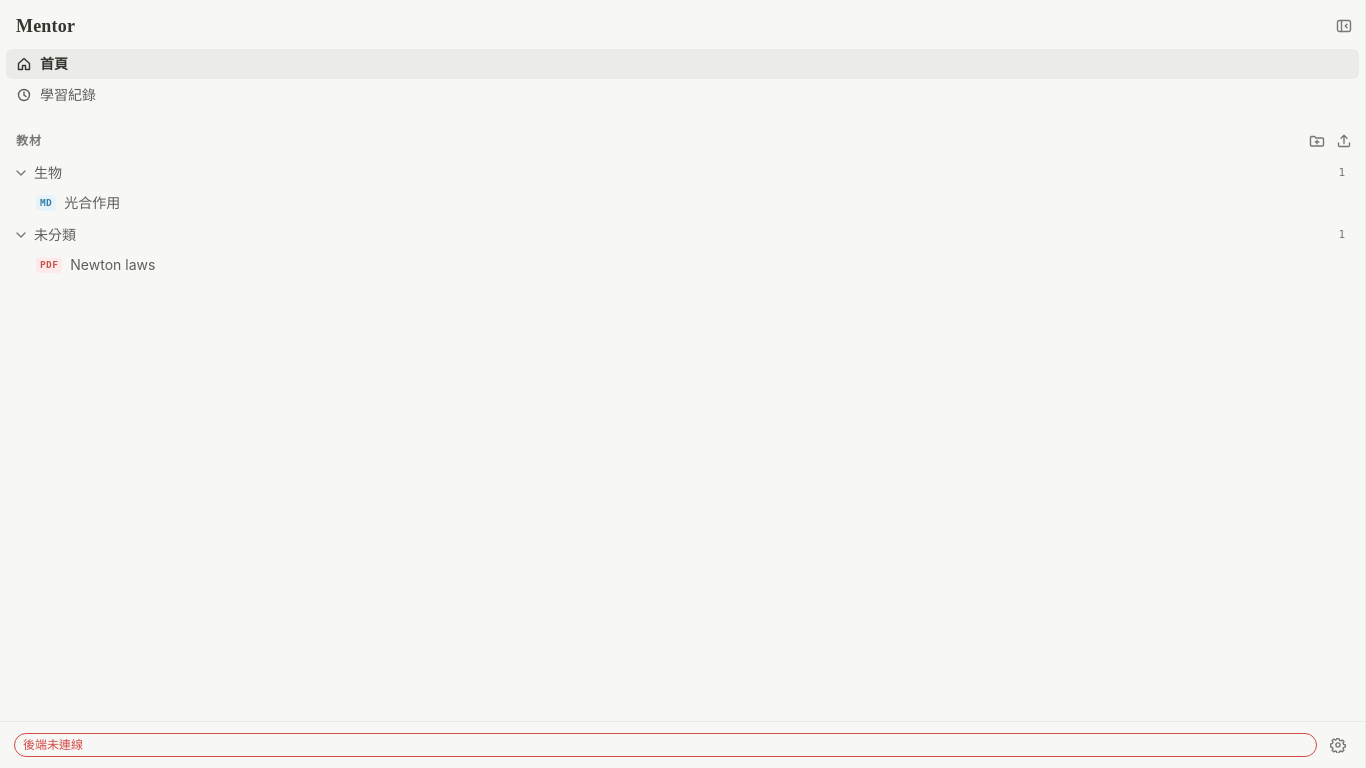
Sidebar › groups materials by category and folds a category out of view
The width and height of the screenshot is (1366, 768).
Click the text "光合作用".
click(92, 203)  # box [64,193,120,213]
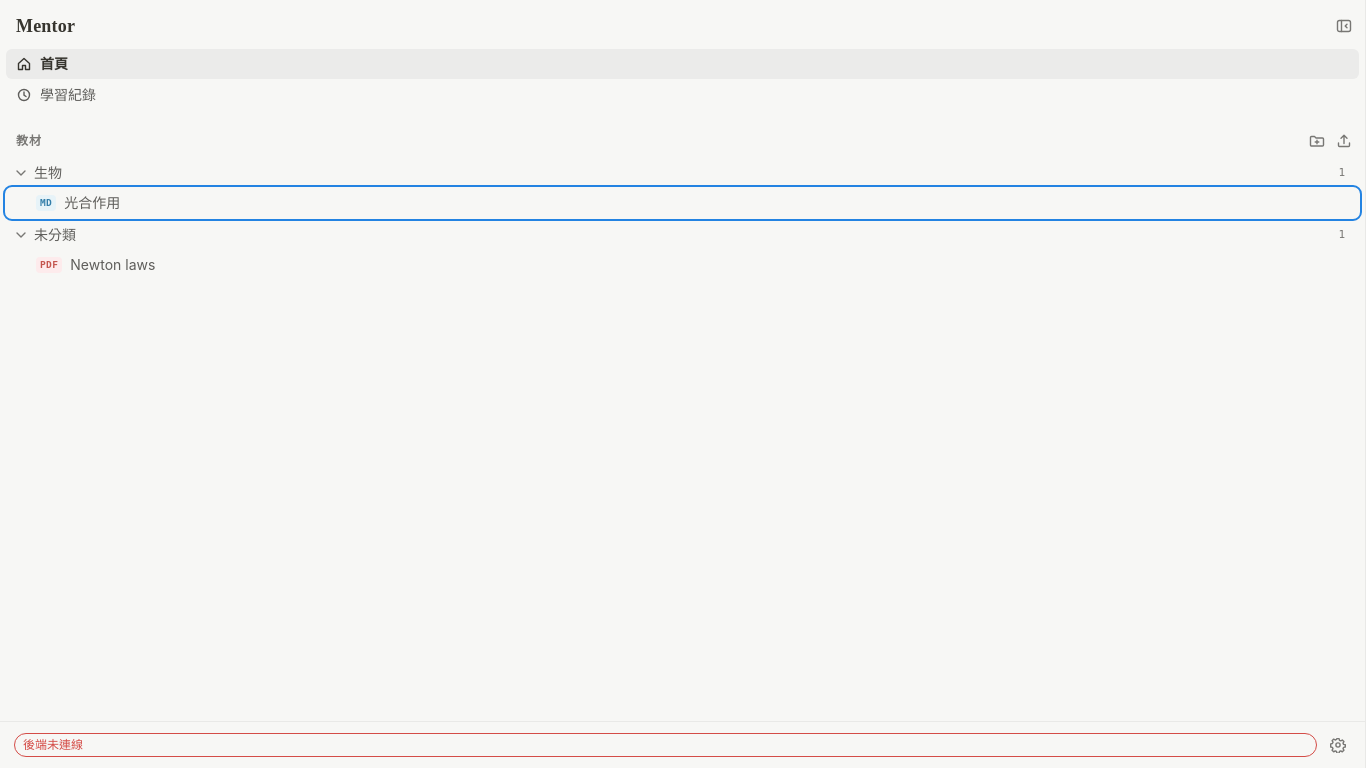
Expected: the text "Newton laws" is shown, [70,255,155,275]
Click the button "生物 1".
click(21, 173)  # box [6,158,1359,188]
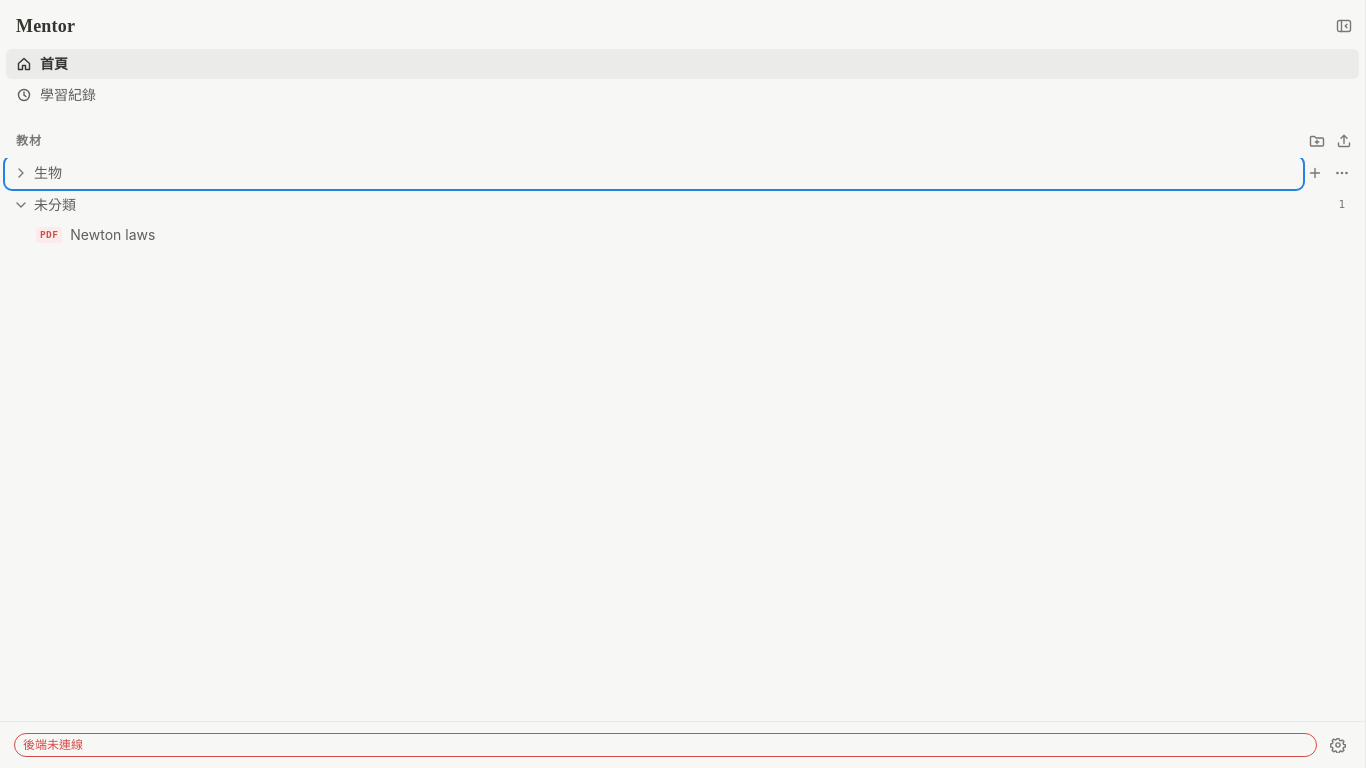
Expected: the button "光合作用" is gone
